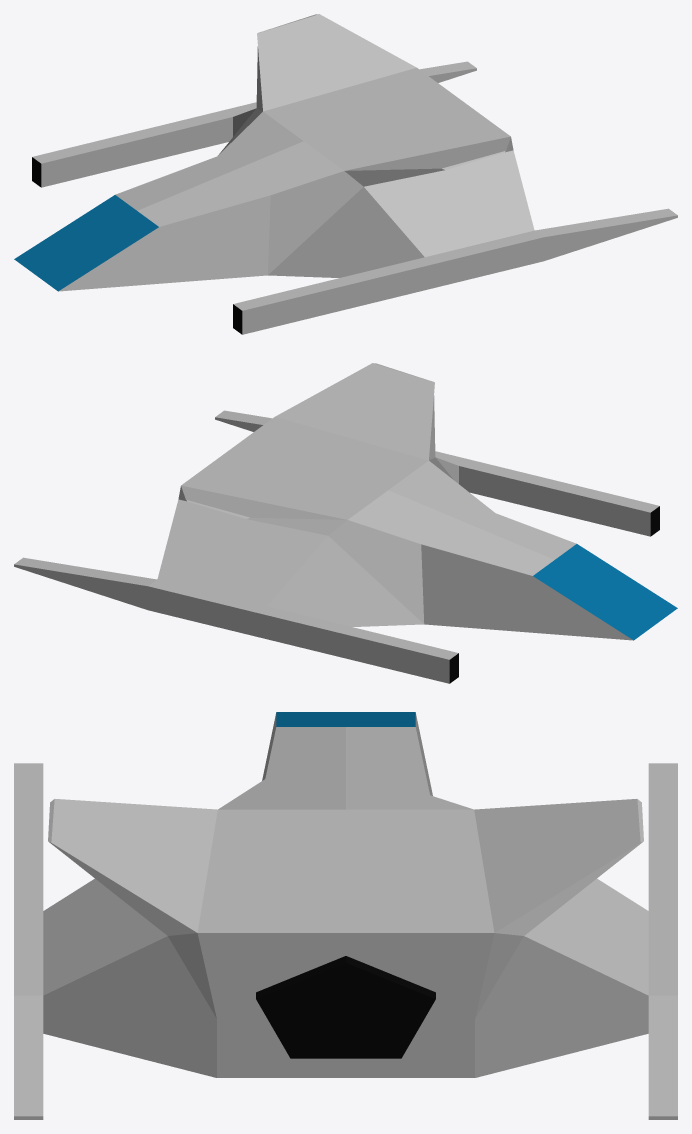
Rendered from ship.fbx.
3 renders of one model, top to bottom at view 1: azimuth 30°, elevation 25°; view 2: azimuth 150°, elevation 25°; view 3: azimuth 270°, elevation 25°, orthographic. The views are drawn at different scales.
Visible parts, largest first — view 1: polySurface3; view 2: polySurface3; view 3: polySurface3, pCylinder1.
Boxes of the visible parts, x1,y1,x2,y2 form: polySurface3: [14, 14, 677, 334]; polySurface3: [14, 363, 677, 683]; polySurface3: [14, 712, 677, 1119]; pCylinder1: [256, 956, 435, 1058].
Size of the model in its own units: 2.51 by 0.5548 by 1.7.
